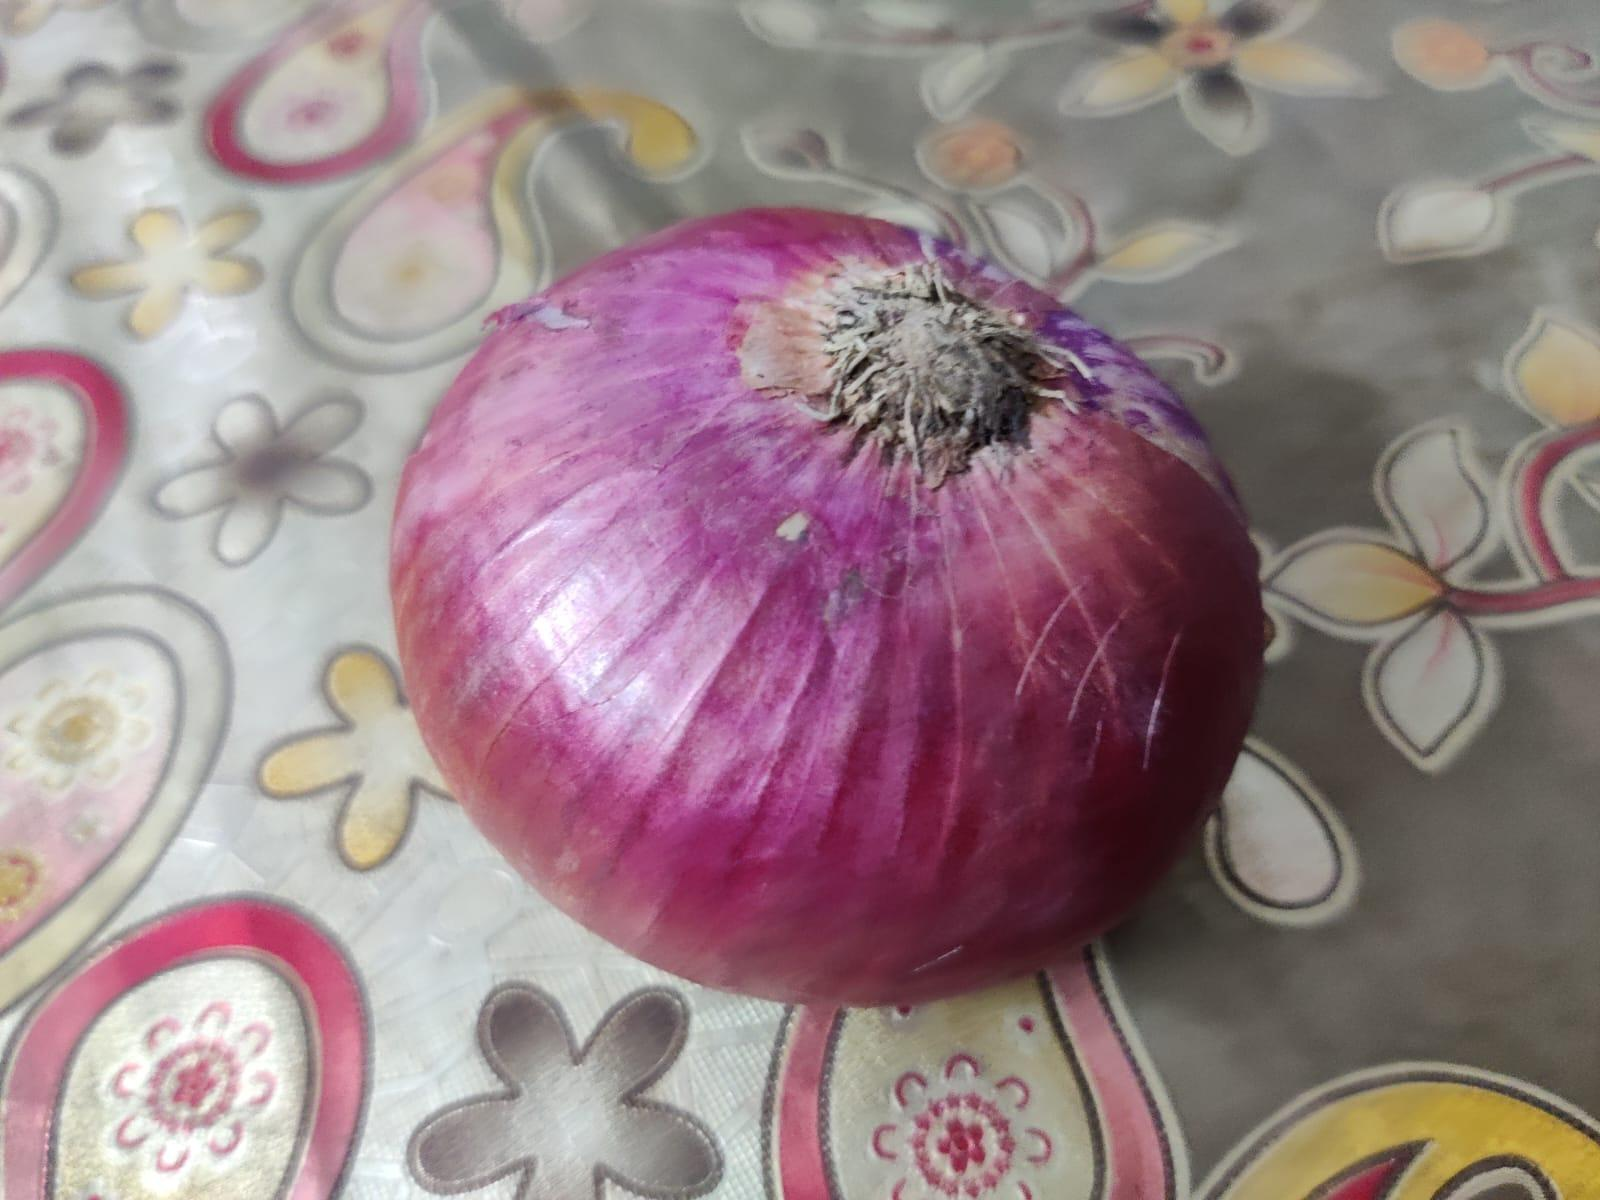non-mango: (387, 198, 1271, 1015)
